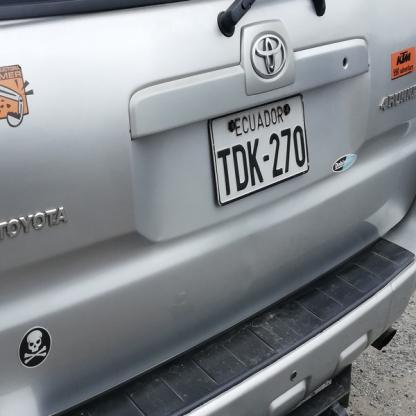Placa: (199, 100, 321, 198)
